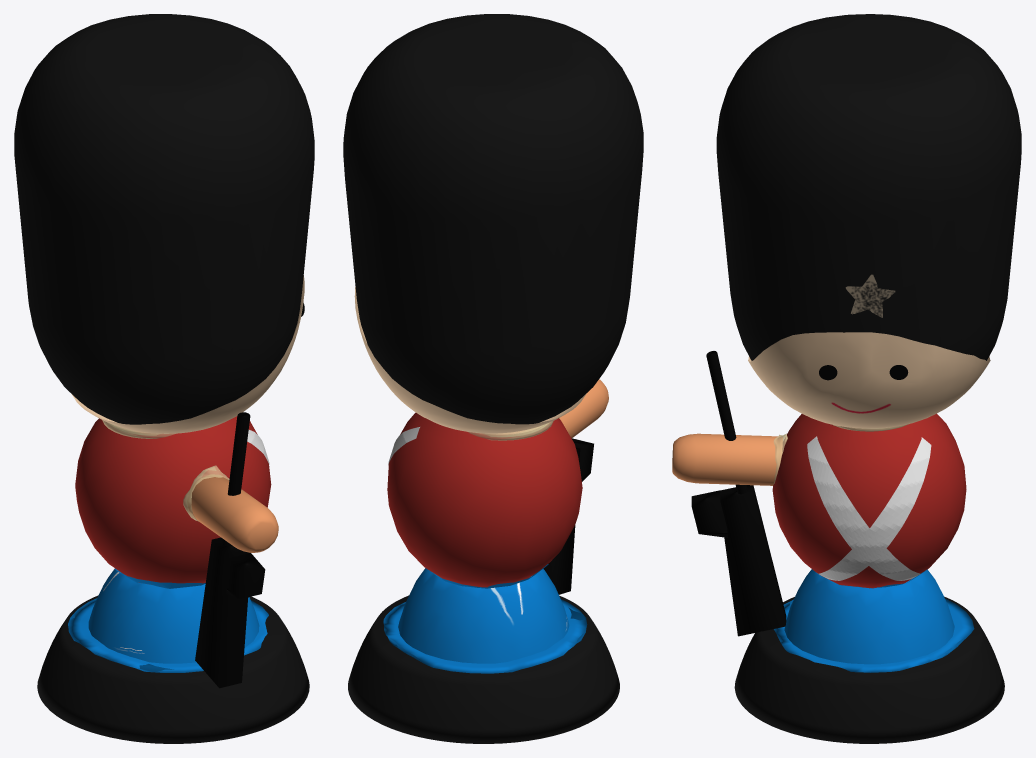
Rendered from soldadito.glb.
The picture shows the model from 3 angles, left to right: view 1: azimuth 30°, elevation 25°; view 2: azimuth 150°, elevation 25°; view 3: azimuth 270°, elevation 25°; orthographic projection.
Parts seen in each view (by area): view 1: cabolo, black base new.001, body.001, black base new.003, escopeta, arm, face 2, pintura blava sobrant, Object; view 2: cabolo, body.001, black base new.001, black base new.003, pintura blava sobrant, face 2, escopeta, arm, pegamento.001; view 3: cabolo, black base new.001, body.001, face 2, black base new.003, escopeta, arm, cross left, cross right, pintura blava sobrant, Star.
Part boxes in pixels (x1,y1,x2,y2): cabolo: [14, 14, 314, 424]; black base new.001: [37, 595, 309, 743]; body.001: [75, 416, 271, 583]; black base new.003: [88, 568, 259, 663]; escopeta: [195, 412, 265, 688]; arm: [187, 474, 278, 552]; face 2: [71, 275, 304, 433]; pintura blava sobrant: [68, 598, 268, 672]; Object: [183, 465, 229, 521]; cabolo: [343, 14, 643, 424]; body.001: [387, 412, 582, 587]; black base new.001: [348, 595, 619, 743]; black base new.003: [398, 568, 569, 663]; pintura blava sobrant: [383, 599, 587, 673]; face 2: [354, 286, 586, 433]; escopeta: [543, 438, 593, 594]; arm: [559, 379, 608, 438]; pegamento.001: [468, 421, 553, 440]; cabolo: [716, 14, 1021, 360]; black base new.001: [734, 596, 1004, 743]; body.001: [772, 413, 966, 588]; face 2: [748, 332, 990, 428]; black base new.003: [784, 569, 954, 664]; escopeta: [691, 351, 786, 636]; arm: [672, 433, 782, 485]; cross left: [807, 436, 920, 580]; cross right: [819, 437, 931, 580]; pintura blava sobrant: [774, 598, 974, 672]; Star: [845, 274, 895, 317].
Size of the model in its own units: 0.1139 by 0.2681 by 0.1345.
Materials: 11 (3 with a texture image).
